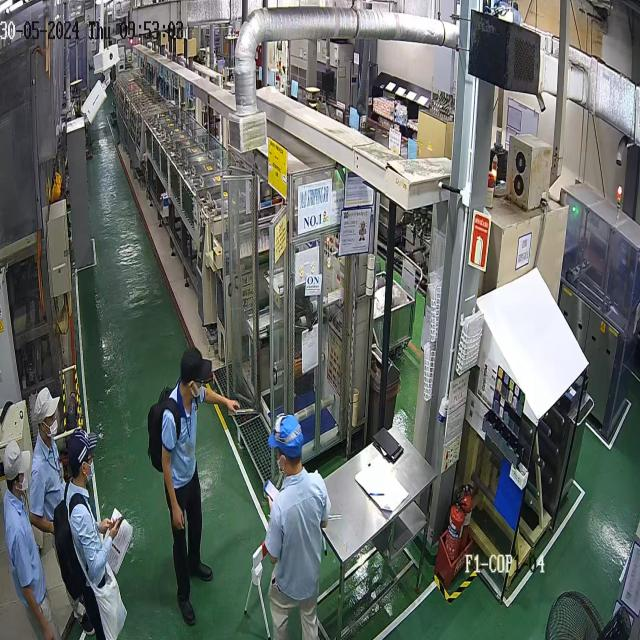Person: (160, 347, 240, 626), (28, 386, 94, 635), (264, 412, 331, 640), (64, 428, 124, 639), (2, 440, 58, 639)
